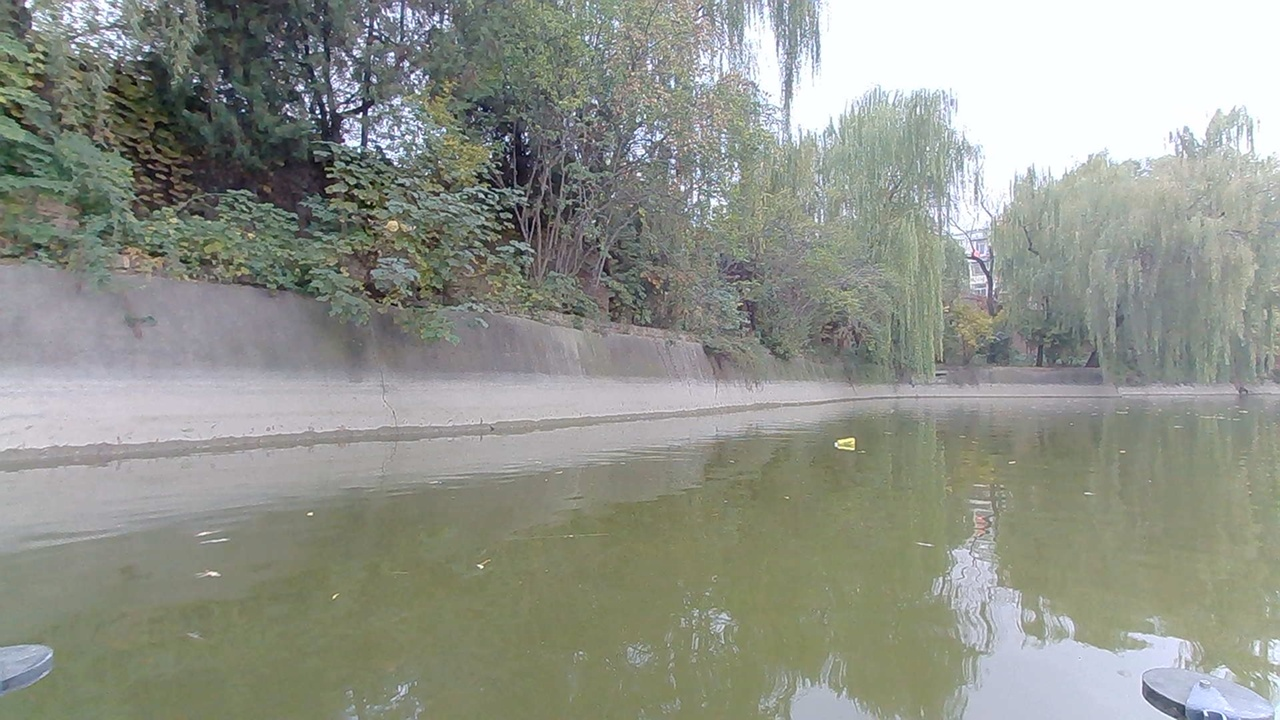bottle: (829, 433, 863, 456)
